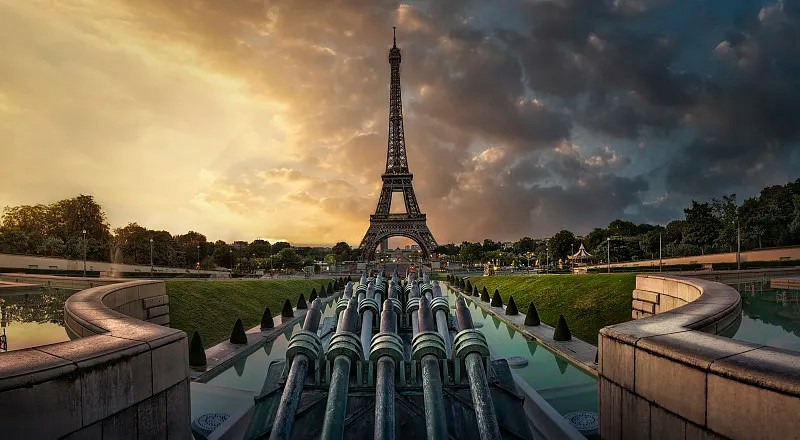Eiffel: (356, 27, 440, 266)
